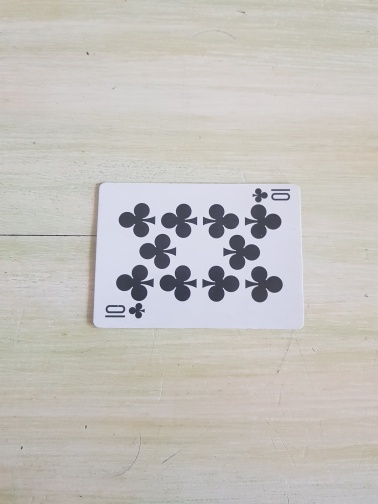ten: (92, 183, 306, 330)
